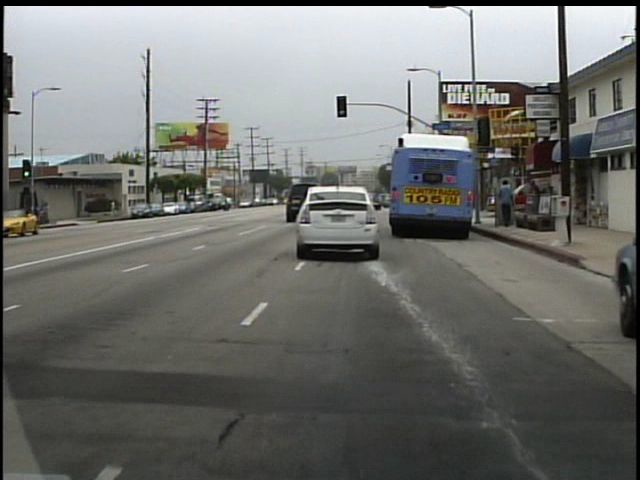person: (493, 178, 515, 232), (110, 196, 120, 218)
